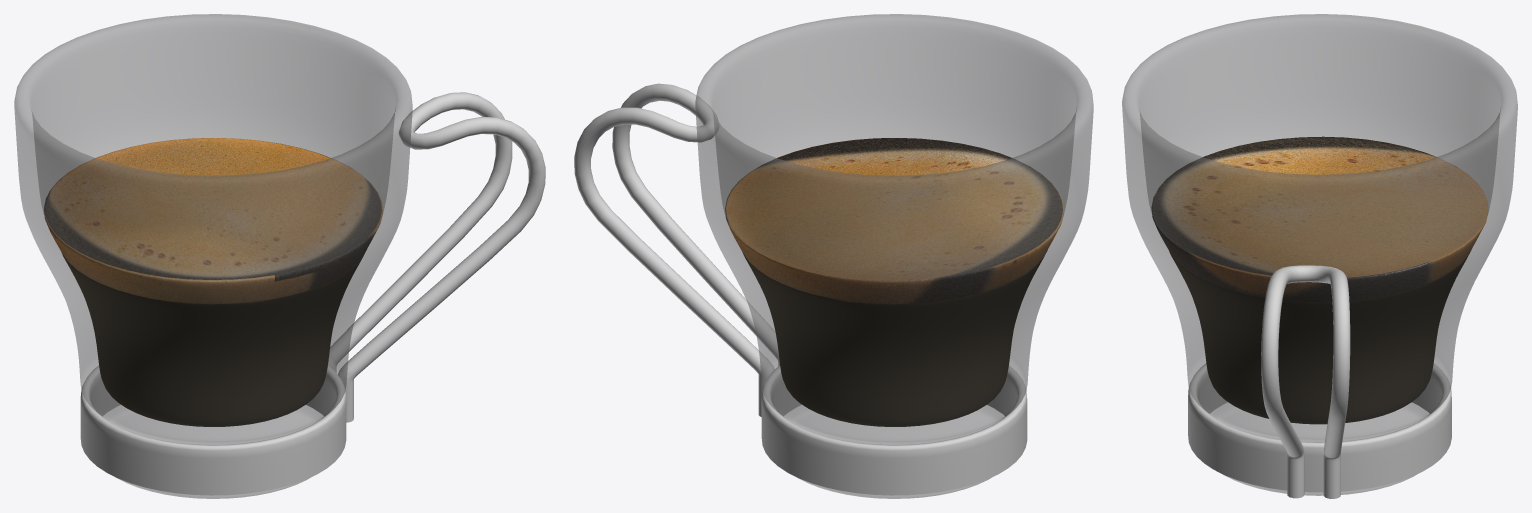
Rendered from Coffe_cup .glb.
The picture shows the model from 3 angles, left to right: view 1: azimuth 30°, elevation 25°; view 2: azimuth 150°, elevation 25°; view 3: azimuth 270°, elevation 25°; orthographic projection.
Visible parts, largest first — view 1: Coffe Cup; view 2: Coffe Cup; view 3: Coffe Cup.
Boxes of the visible parts, x1,y1,x2,y2 form: Coffe Cup: (14,14,545,498); Coffe Cup: (574,14,1093,498); Coffe Cup: (1122,14,1517,498).
Size of the model in its own units: 0.1337 by 0.094 by 0.0959.
4 materials, 1 textured.
